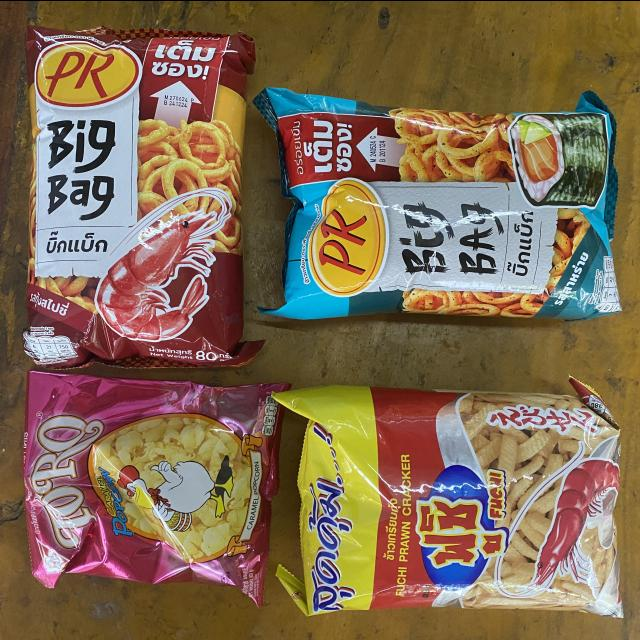plastik: (257, 88, 619, 319), (276, 378, 622, 617), (23, 25, 263, 368), (23, 370, 288, 605)
